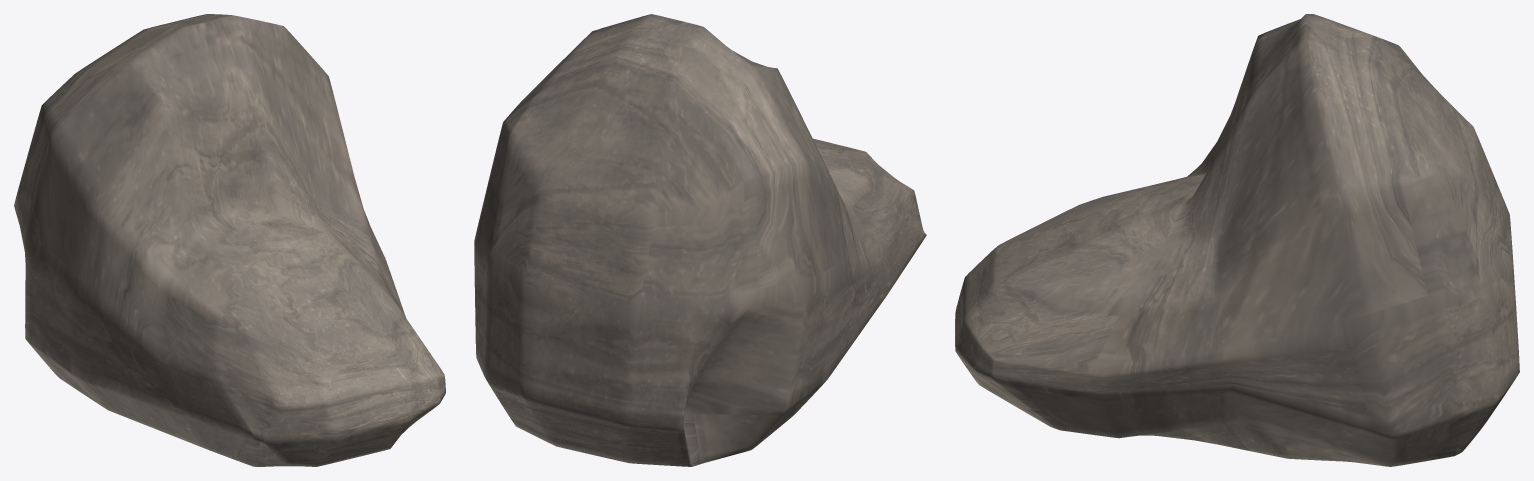
3 views of the same model, side by side, from view 1: azimuth 30°, elevation 25°; view 2: azimuth 150°, elevation 25°; view 3: azimuth 270°, elevation 25° (orthographic). The views are drawn at different scales.
Parts seen in each view (by area): view 1: pCube1; view 2: pCube1; view 3: pCube1.
Part boxes in pixels (x1,y1,x2,y2): pCube1: (14,14,445,466); pCube1: (474,14,926,466); pCube1: (955,14,1519,466).
Size of the model in its own units: 6.14 by 7.43 by 9.25.
Materials: 1 (1 with a texture image).
